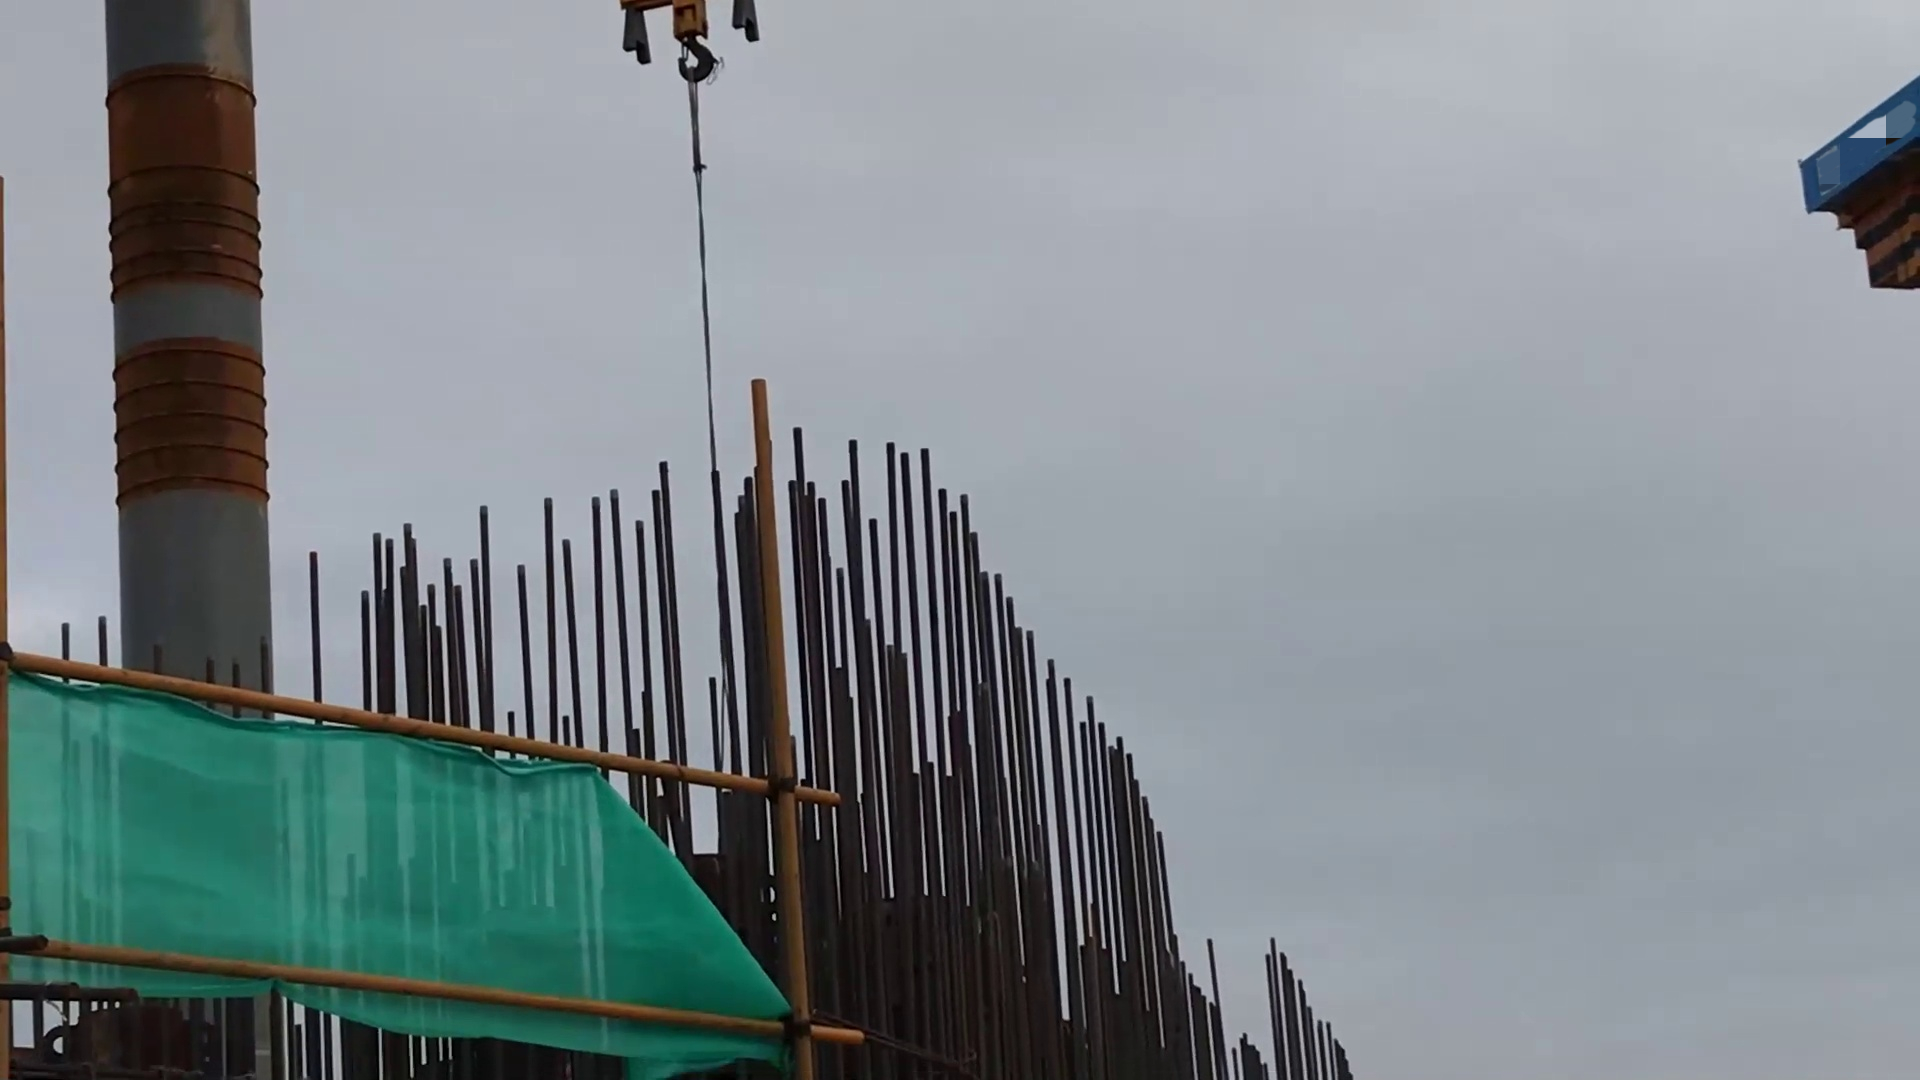hook: (607, 1, 793, 88)
